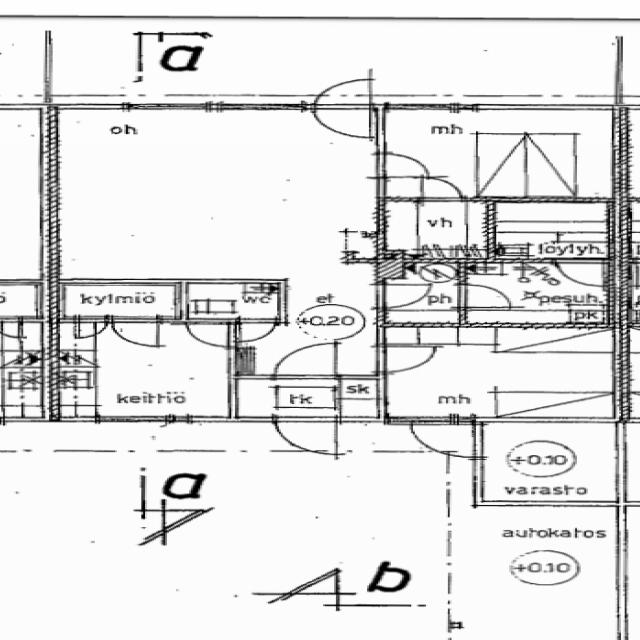door: (275, 417, 337, 454), (411, 425, 482, 457), (275, 344, 336, 379), (313, 75, 370, 109), (313, 105, 370, 138), (378, 346, 435, 372), (557, 258, 604, 287), (378, 153, 431, 177), (185, 323, 237, 347), (378, 285, 430, 308), (459, 285, 510, 307), (421, 178, 461, 202), (240, 319, 276, 341)
